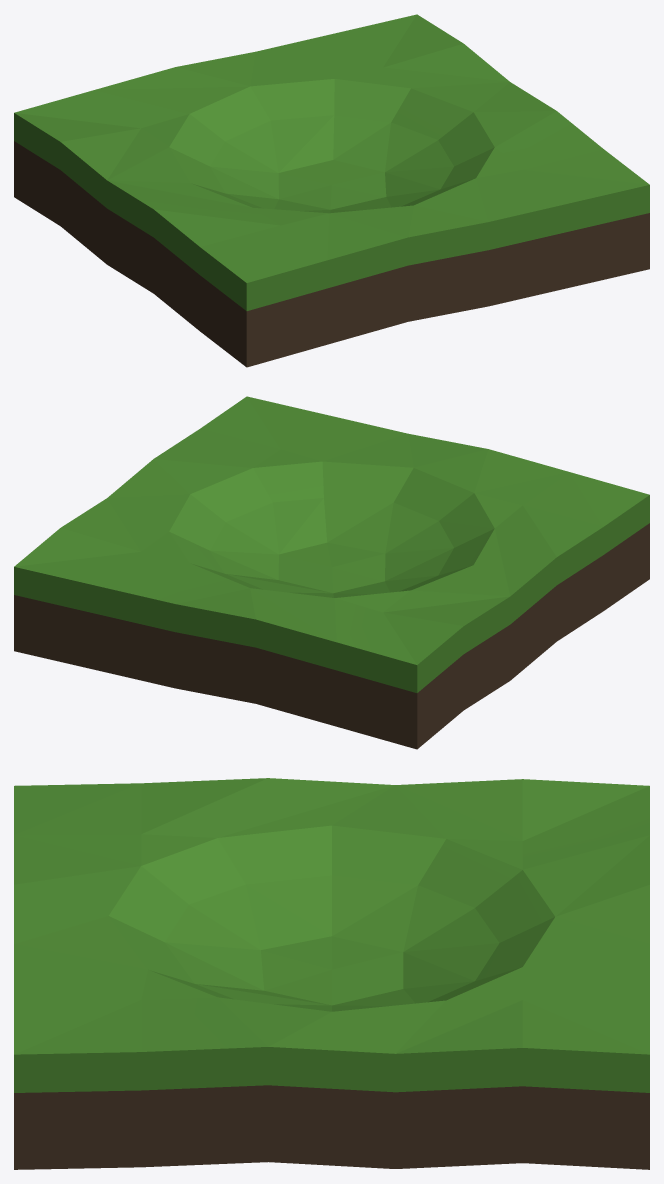
The model's file is terrain-world-lake.glb.
The picture shows the model from 3 angles, top to bottom: view 1: azimuth 30°, elevation 25°; view 2: azimuth 150°, elevation 25°; view 3: azimuth 270°, elevation 25°; orthographic projection. The views are drawn at different scales.
Parts seen in each view (by area): view 1: terrain-world-lake; view 2: terrain-world-lake; view 3: terrain-world-lake.
Part boxes in pixels (left/top/right/bottom): terrain-world-lake: left=14, top=14, right=649, bottom=367; terrain-world-lake: left=14, top=396, right=649, bottom=749; terrain-world-lake: left=14, top=778, right=649, bottom=1169.
Bounding box in the file's own units: 30 × 6.45 × 30.
1 material, 1 textured.
